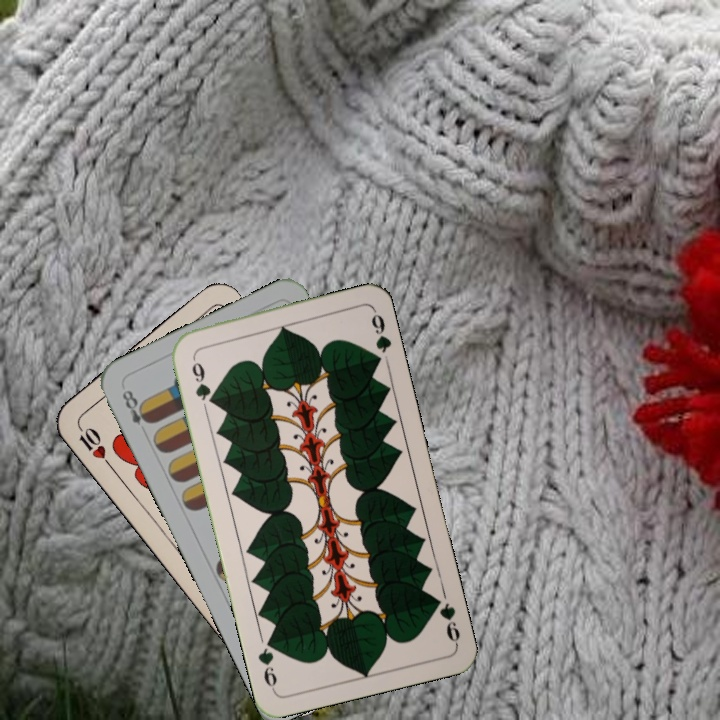E8: (118, 385, 155, 427)
G9: (428, 592, 463, 647), (188, 352, 217, 408)
H10: (73, 420, 115, 470)
